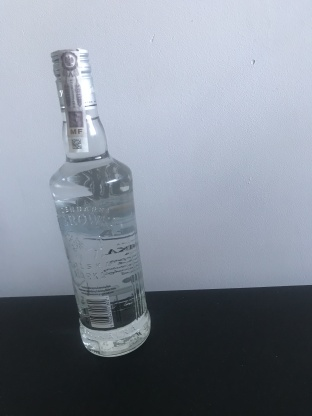nakretka: (48, 44, 100, 114)
